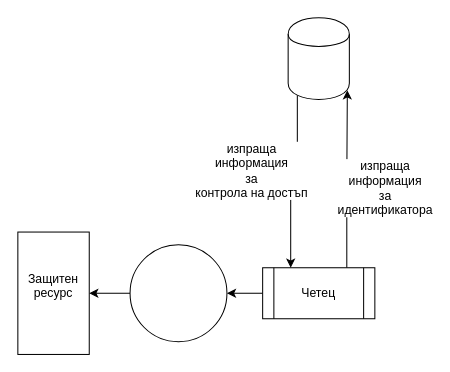
This 450x372 diagram has some shape labels left out. Here are the shapes that lost their labels. From the top down, the centre of each, then its label:
At point 318,58: "Сървър".
At point 178,293: "маханизъм за ограничване на достъп".
